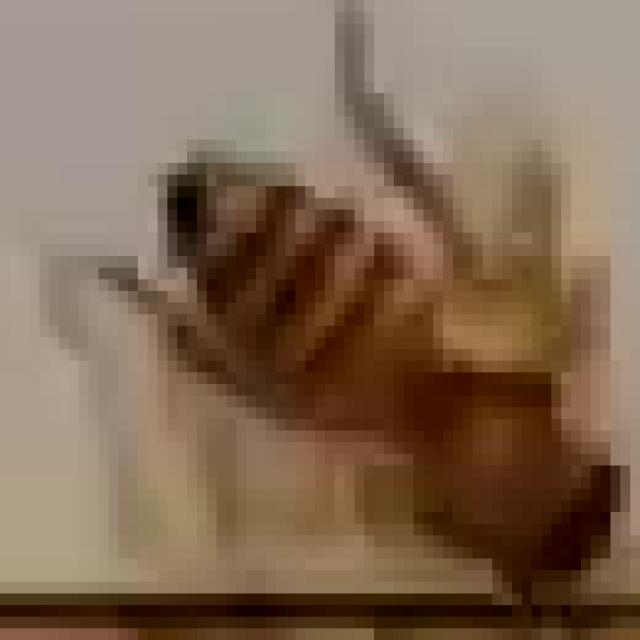honeybee: (107, 81, 640, 622)
